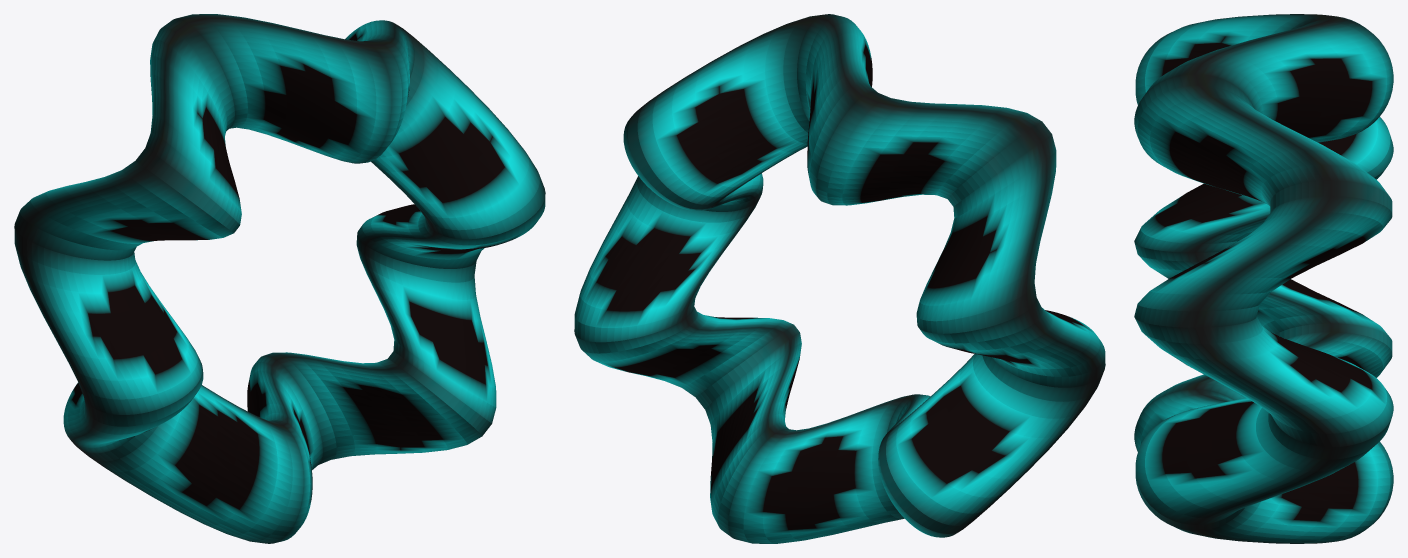
File: step_16.glb
3 views of the same model, side by side, from view 1: azimuth 30°, elevation 25°; view 2: azimuth 150°, elevation 25°; view 3: azimuth 270°, elevation 25° (orthographic).
Visible parts, largest first — view 1: world; view 2: world; view 3: world.
Boxes of the visible parts, left/top/right/bottom form: world: left=14, top=14, right=545, bottom=543; world: left=574, top=14, right=1105, bottom=543; world: left=1134, top=14, right=1393, bottom=543.
Size of the model in its own units: 26 by 26 by 12.71.
